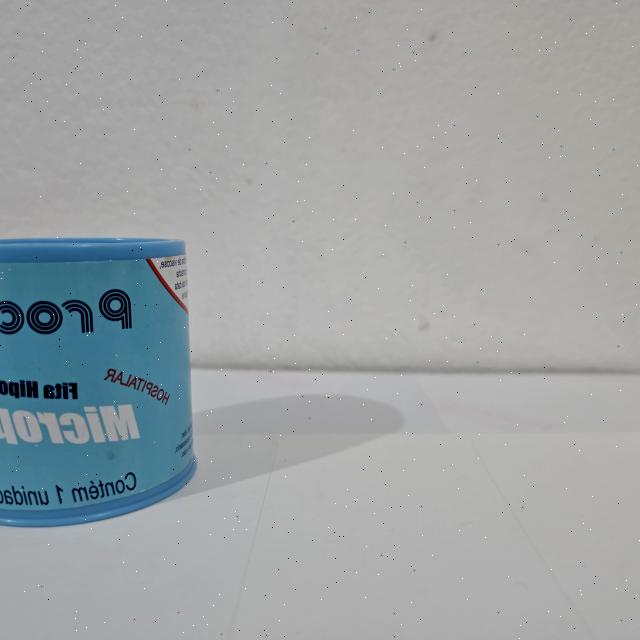procitex: (0, 229, 199, 530)
